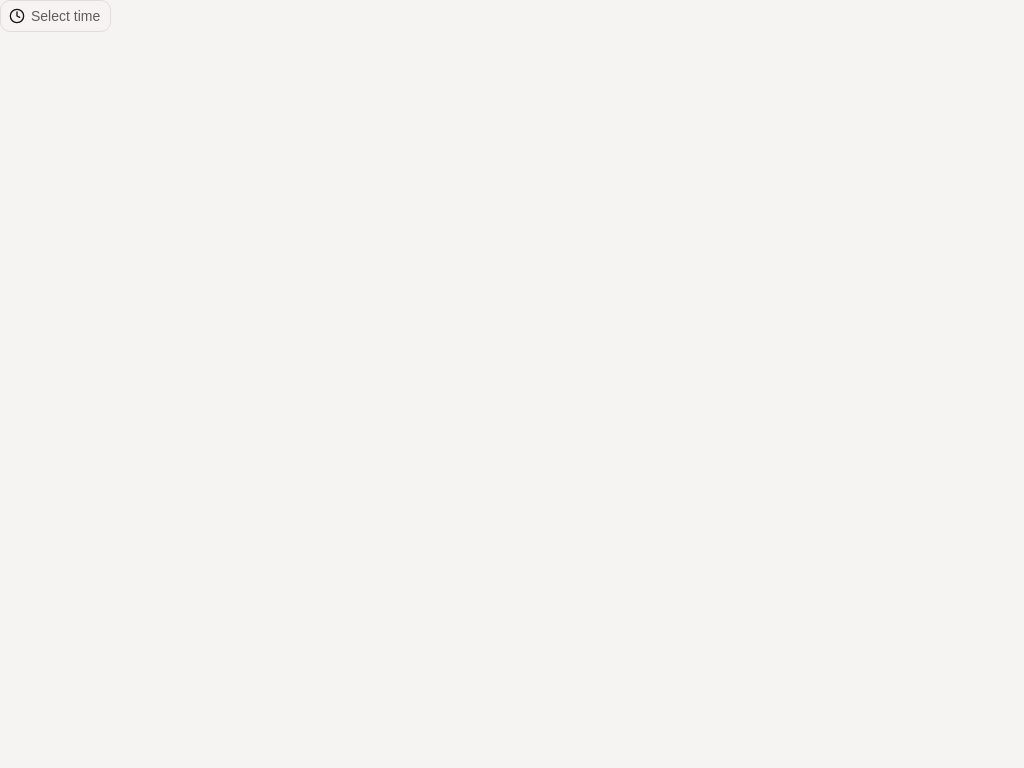
Test: TimePicker › steps minutes
Click the button: [56, 16] box 0,0 -> 111,32
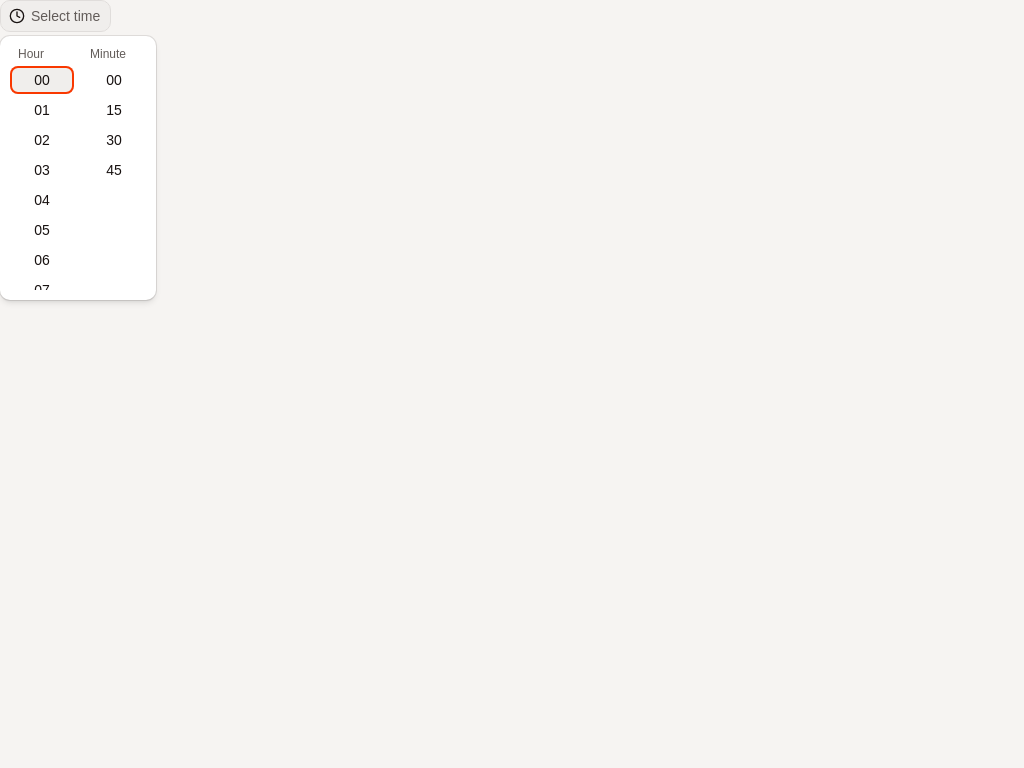
expect the options read "00", "15", "30", "45", in this order: met, box 106,72 -> 122,88; 106,102 -> 122,118; 106,132 -> 122,148; 106,162 -> 122,178
